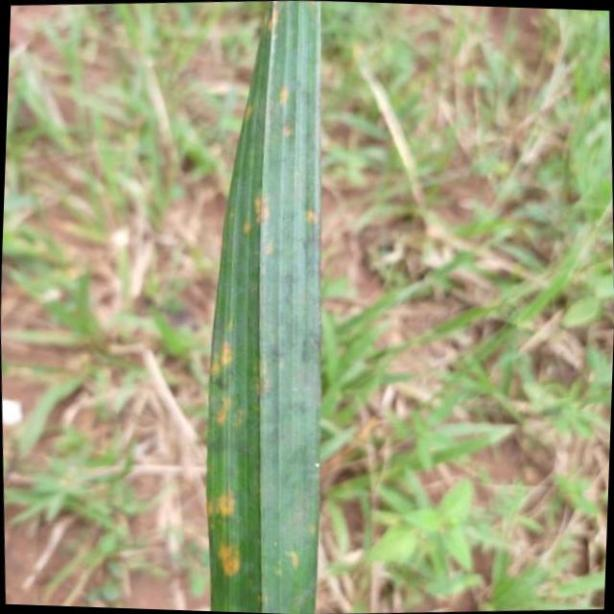Kalium: (205, 0, 324, 614)
